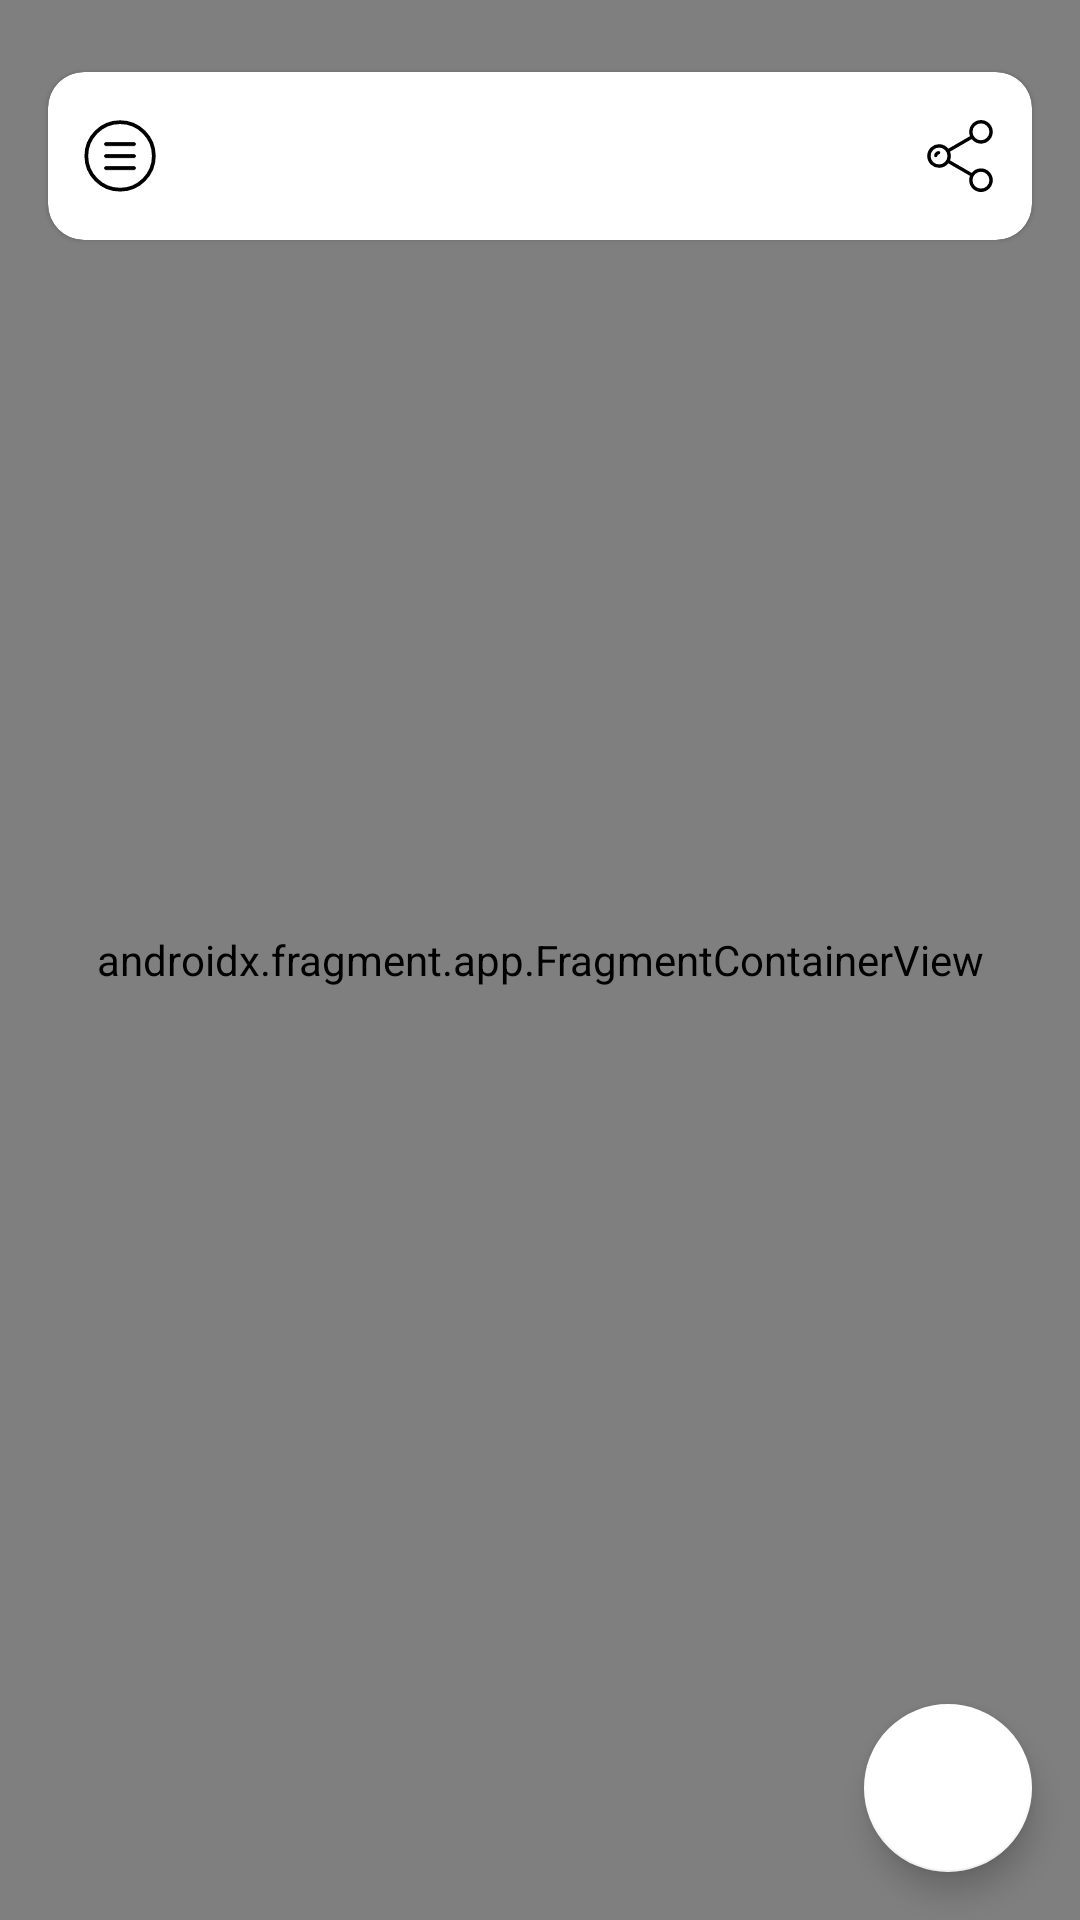

Where icons sit on this 1080px x 1920px app screen, as bbox(x1, y1, x2, y2):
menu: bbox(48, 72, 192, 240)
share: bbox(888, 72, 1032, 240)
